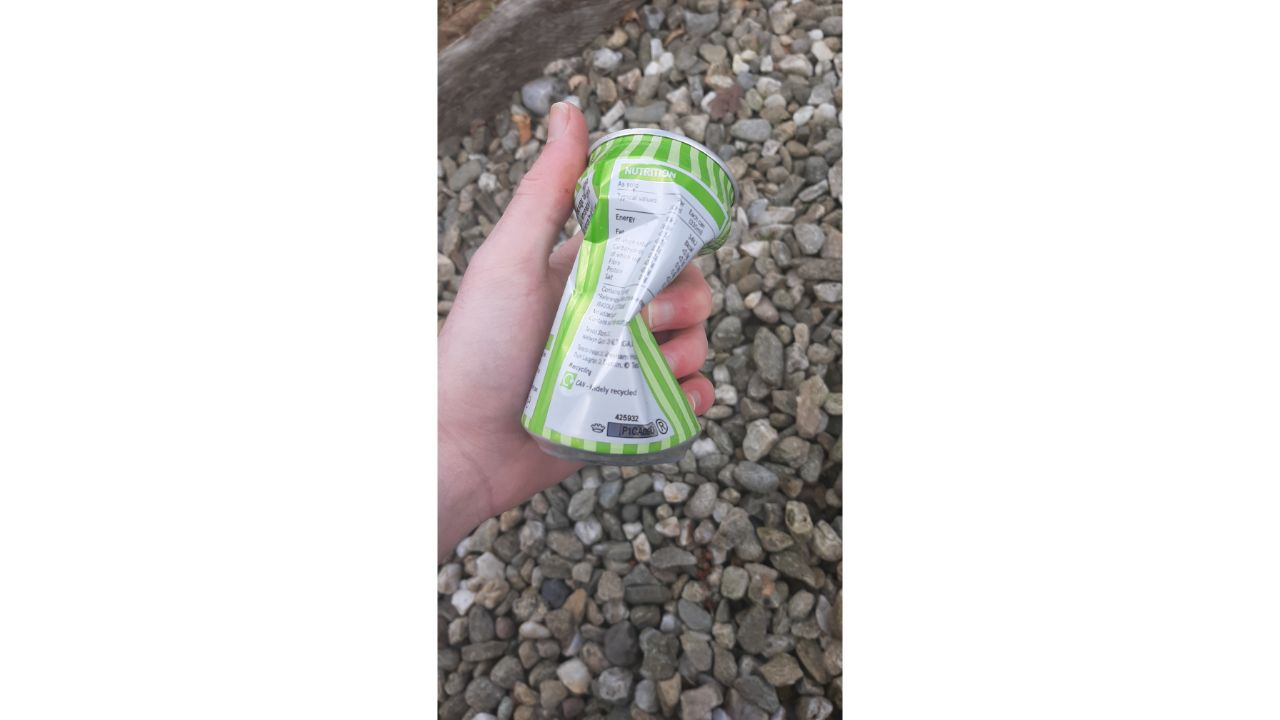Can: (512, 122, 752, 476)
